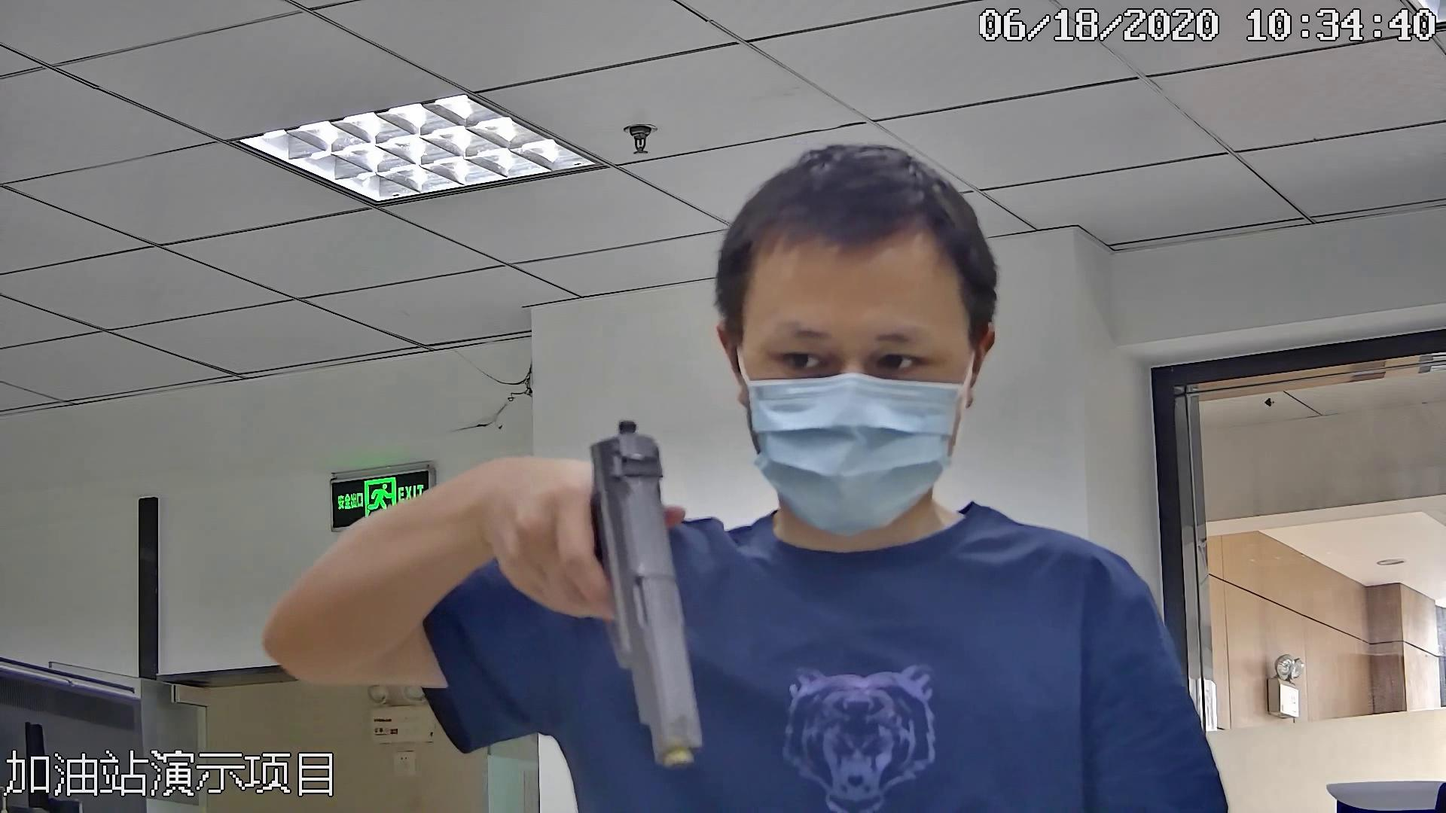gun: (569, 417, 721, 760)
